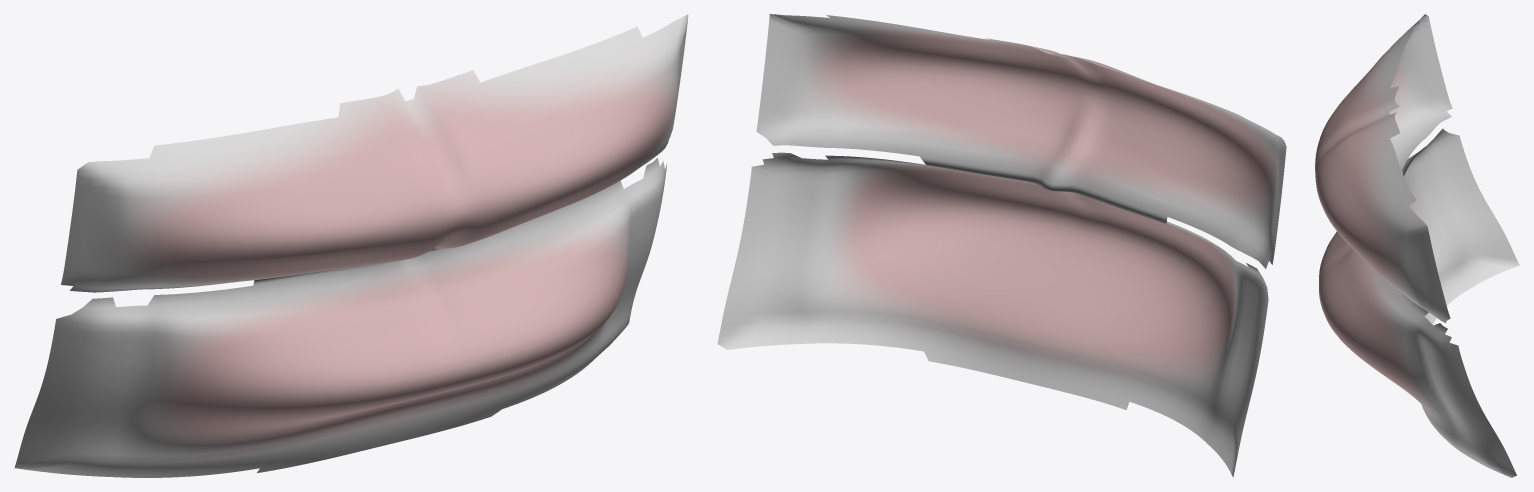
File: levres_femme.glb
3 renders of one model, left to right at view 1: azimuth 30°, elevation 25°; view 2: azimuth 150°, elevation 25°; view 3: azimuth 270°, elevation 25°, orthographic. The views are drawn at different scales.
Visible parts, largest first — view 1: levres_femme; view 2: levres_femme; view 3: levres_femme.
Part boxes in pixels (bbox=[...]): levres_femme: bbox=[14, 14, 688, 477]; levres_femme: bbox=[717, 14, 1286, 477]; levres_femme: bbox=[1315, 14, 1519, 477].
Size of the model in its own units: 0.055 by 0.0322 by 0.0221.
